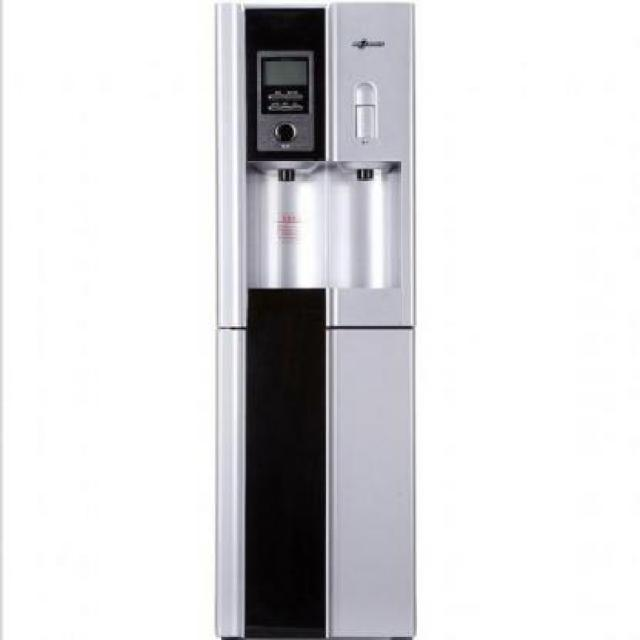cooler: (211, 0, 425, 640)
